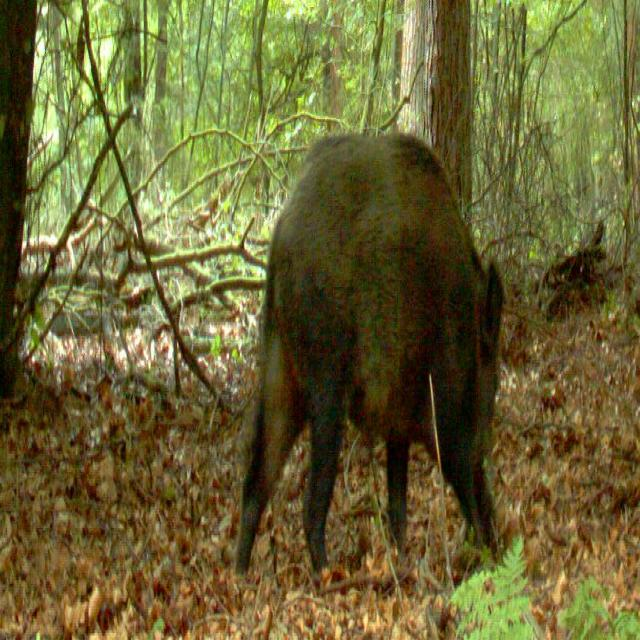pig: (224, 58, 509, 559)
